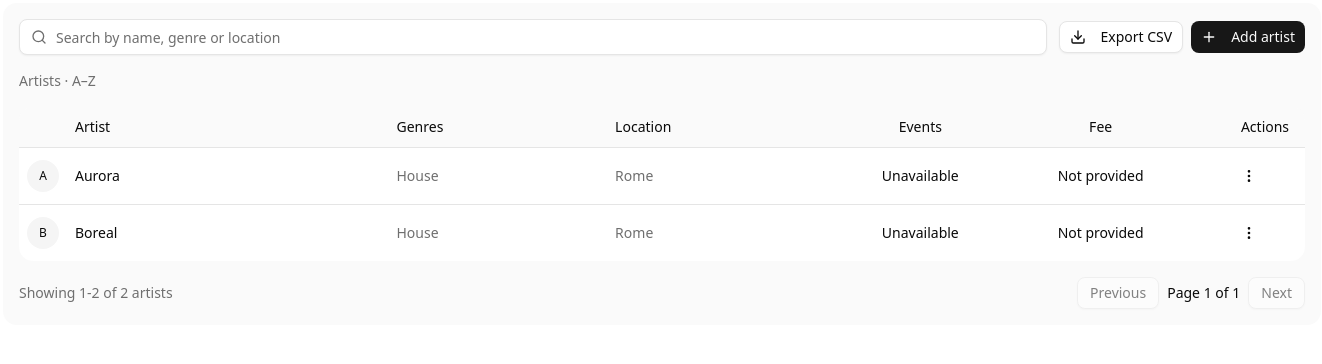
Test: 2: a load error, an empty roster and a search with no results are three distinct states
Earlier steps of the test are not shown.
Later steps or results of the test are not shown.
Check: the text "No artists match" is not shown
Type "zzz" into the search field named "Search artists" at (533, 37), box [19,19,1047,55]
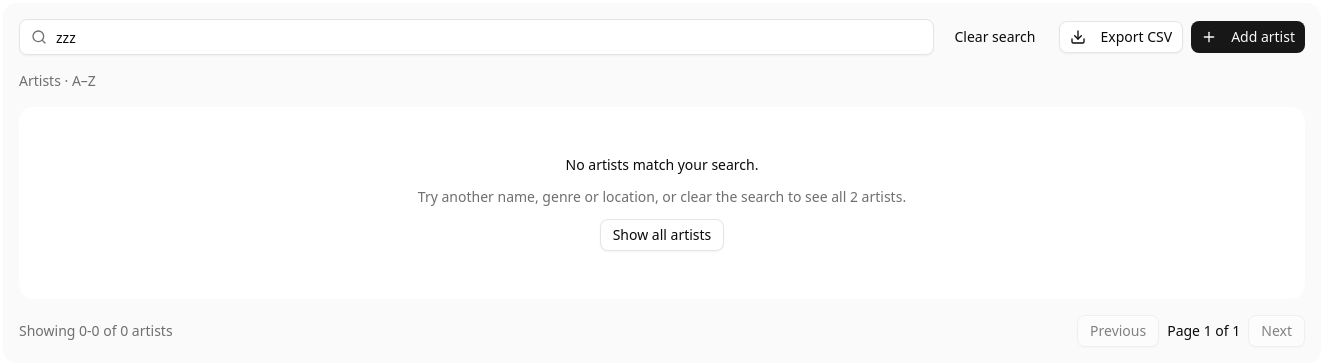
Check: the text "No artists match your search." is shown, box [566,155,758,174]
Check: the text "clear the search to see all 2 artists" is shown, box [418,187,906,206]
Click the button "Show all artists" at (662, 235), box [600,219,724,251]
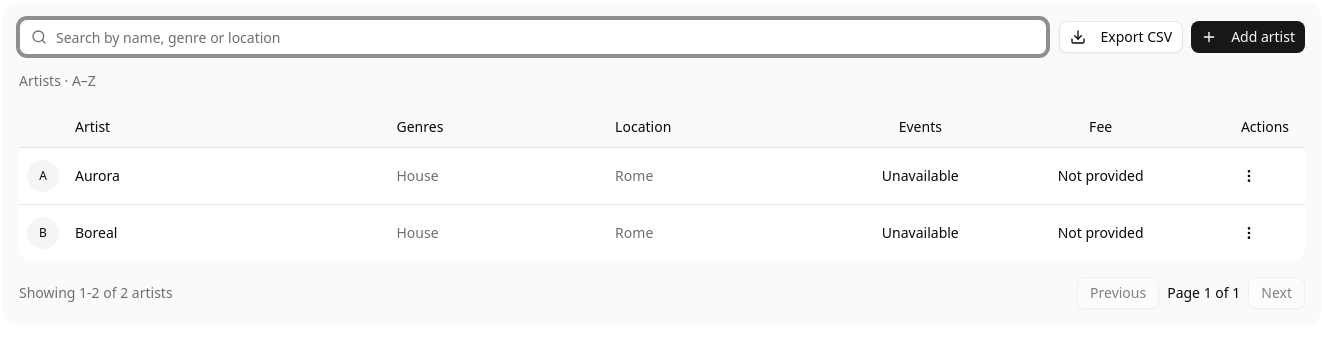
Check: the link "Aurora" is shown, box [75,166,120,184]
Check: the search field named "Search artists" is empty, box [19,19,1047,55]
